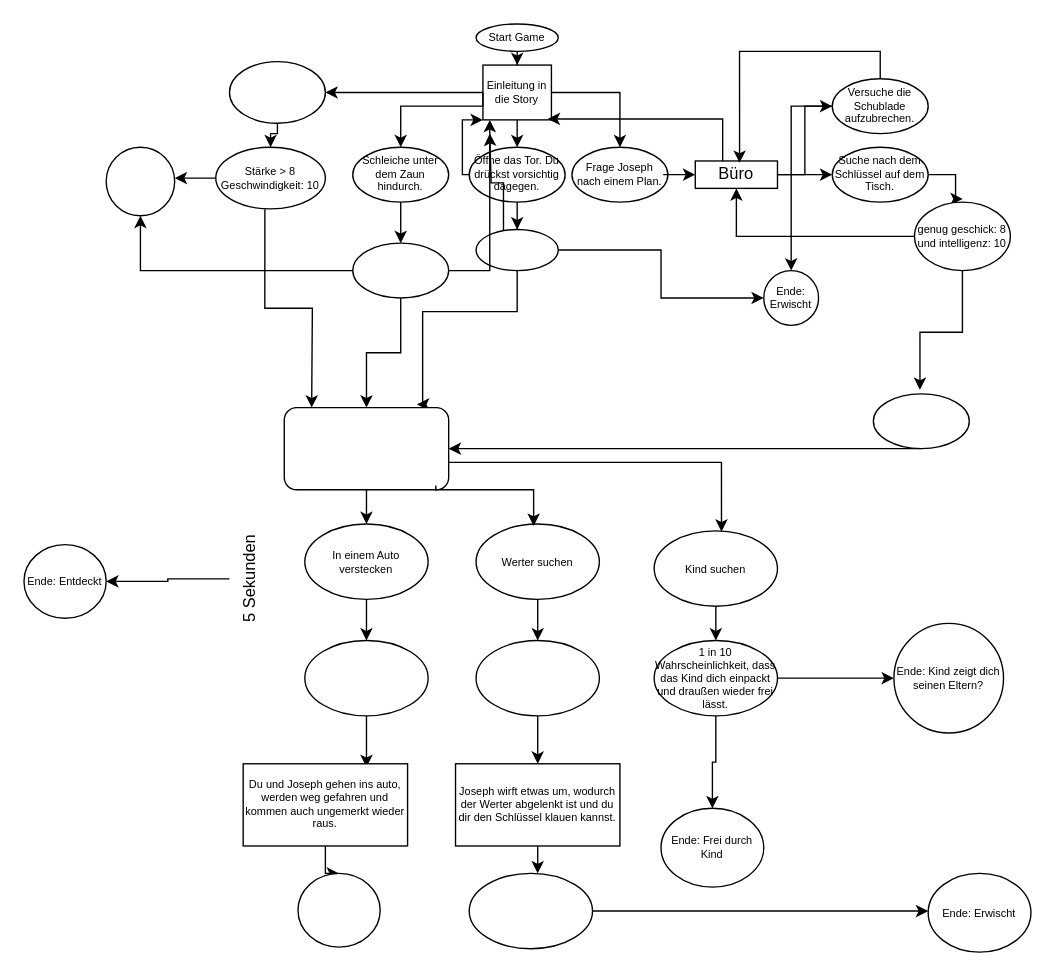
The diagram is 1055 pixels wide and 977 high, and some of its shapes have lost their labels. The shapes that lost their labels are listed below. From the top down, each one's centre as x and y in pixels, then its label:
At pixel 276 91: "Fliege über den Zaun".
At pixel 140 181: "Ende: Hängengeblieben".
At pixel 516 249: "Kraft: 10 und geschick: 10".
At pixel 400 270: "geschick: 10 Stärke < 4 Intelligenz: 4".
At pixel 920 421: "Benutze den Schlüssel".
At pixel 366 448: "Im Zoo (nicht mehr Gehege)".
At pixel 365 677: "Speed: 4 Intelligenz: 7 80% Chance, dass es klappt".
At pixel 537 677: "Ablenken und Schlüssel stehlen".
At pixel 338 909: "Ende: Auto".
At pixel 530 910: "Geschick: 10 Intelligenz > 6 80% Chance, dass es klappt.".
